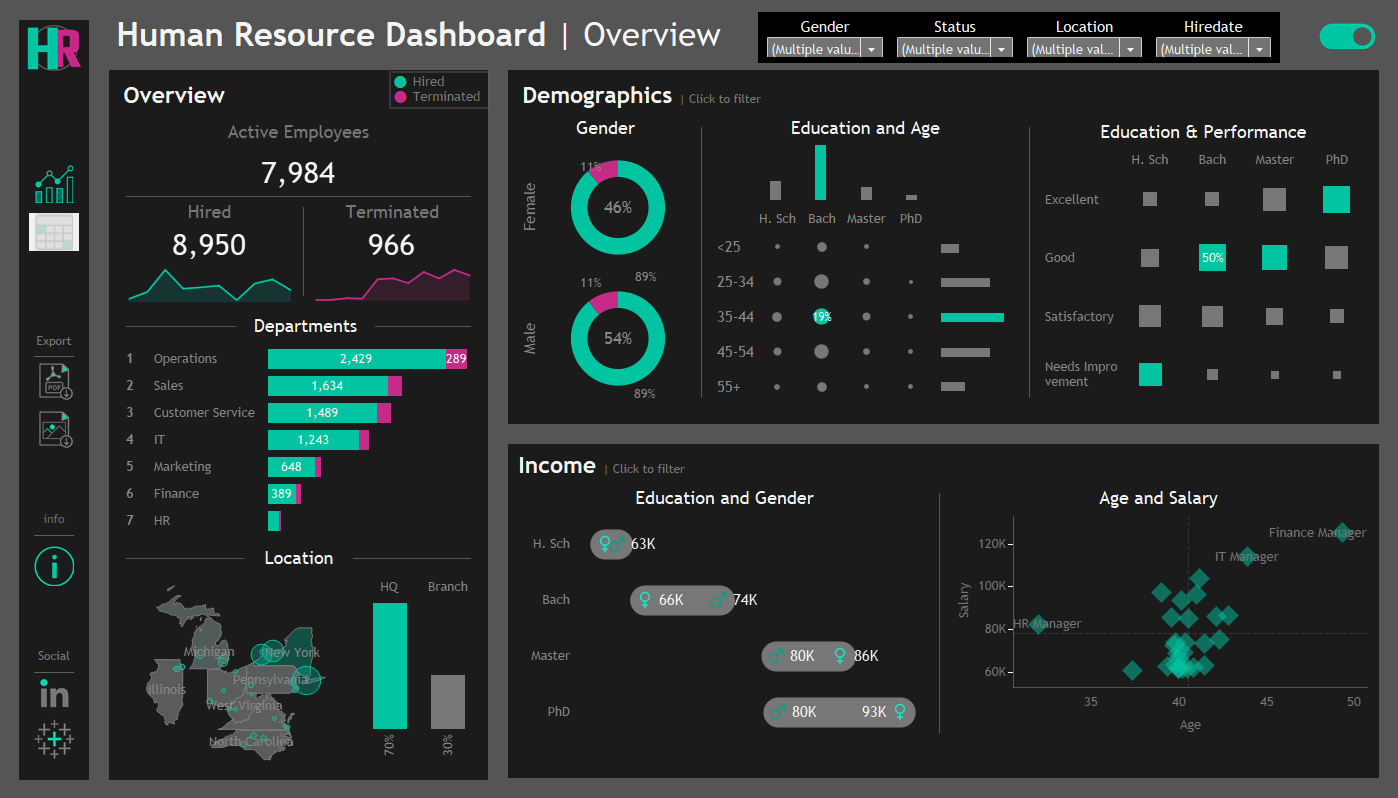

What the dashboard file says about the page in this screenshot:
{"tool":"tableau","page":{"name":"HR|Summary","canvas":[1400,800],"ordinal":0},"visuals":[{"type":"text","box":[110,0,693,70]},{"type":"blank","box":[803,0,577,70]},{"type":"dashboard-object","box":[1320,12,56,50]},{"type":"filter","title":"Gender Vs Education Level","param":"[federated.041khfl1uyaq4g14h28vw0vvkhcx].[none:Gender:nk]","box":[761,14,130,47]},{"type":"filter","title":"Gender Vs Education Level","param":"[federated.041khfl1uyaq4g14h28vw0vvkhcx].[none:Calculation_1573163699767287808:n","box":[891,14,130,47]},{"type":"filter","title":"Gender Vs Education Level","param":"[federated.041khfl1uyaq4g14h28vw0vvkhcx].[none:Calculation_1072419715825946632:n","box":[1021,14,129,47]},{"type":"filter","title":"Gender Vs Education Level","param":"[federated.041khfl1uyaq4g14h28vw0vvkhcx].[yr:Hiredate:ok]","box":[1150,14,129,47]},{"type":"image","param":"Image/Logo.png","box":[20,20,70,55]},{"type":"text","box":[392,73,97,34]},{"type":"blank","box":[20,75,70,80]},{"type":"text","box":[117,77,365,35]},{"type":"text","box":[516,77,857,35]},{"type":"text","box":[117,112,365,37]},{"type":"text","box":[516,117,186,21]},{"type":"blank","box":[702,117,1,291]},{"type":"text","box":[708,117,317,21]},{"type":"blank","box":[1030,117,1,291]},{"type":"text","box":[1036,117,337,29]},{"type":"worksheet","title":"Gender","mark":"Pie","rows":["Gender"],"cols":["Calculation_1072419715833659404","Calculation_1072419715833659404"],"box":[516,138,186,270]},{"type":"worksheet","title":"Education Levels","mark":"Bar","rows":["Calculation_1072419715788165123"],"cols":["Education Level"],"box":[708,138,317,67]},{"type":"worksheet","title":"Education Vs Performance","mark":"Square","rows":["Performance Rating"],"cols":["Education Level"],"box":[1036,146,337,262]},{"type":"worksheet","title":"BAN Active","mark":"Text","box":[117,149,365,47]},{"type":"dashboard-object","box":[30,165,50,38]},{"type":"blank","box":[117,196,365,1]},{"type":"text","box":[117,197,187,29]},{"type":"blank","box":[304,197,1,109]},{"type":"text","box":[305,197,176.9,29]},{"type":"blank","box":[30,203,50,10]},{"type":"worksheet","title":"Age vs Education","mark":"Circle","rows":["Calculation_1072419715836768270"],"cols":["Education Level"],"box":[708,205,230,203]},{"type":"worksheet","title":"Age Groups","mark":"Bar","rows":["Calculation_1072419715836768270"],"cols":["Calculation_1072419715788165123"],"box":[938,205,74,203]},{"type":"dashboard-object","box":[30,213,50,38]},{"type":"worksheet","title":"BAN Hired","mark":"Text","box":[117,226,187,37]},{"type":"worksheet","title":"BAN Terminated","mark":"Text","box":[305,226,176.9,37]},{"type":"blank","box":[30,251,50,80]},{"type":"worksheet","title":"Hired By Year","mark":"Line","rows":["Calculation_1072419715788165123","Calculation_1072419715788165123"],"cols":["Hiredate"],"box":[117,263,187,43]},{"type":"worksheet","title":"Terminated By Year","mark":"Line","rows":["Calculation_1072419715789025284","Calculation_1072419715789025284"],"cols":["Termdate"],"box":[305,263,176.9,43]},{"type":"blank","box":[127,311,110,30]},{"type":"text","box":[237,311,139,30]},{"type":"blank","box":[376,311,96,30]},{"type":"text","box":[30,331,50,20]},{"type":"worksheet","title":"Departments","mark":"Bar","rows":["Calculation_1072419715824144391","Department"],"cols":["Calculation_1072419715788165123"],"box":[117,341,365,197]},{"type":"blank","box":[30,351,50,11]},{"type":"dashboard-object","box":[30,362,50,38]},{"type":"blank","box":[30,400,50,10]},{"type":"dashboard-object","box":[30,410,50,38]},{"type":"blank","box":[30,448,50,60]},{"type":"text","box":[516,451,857,27]},{"type":"text","box":[516,483,419,29]},{"type":"blank","box":[940,483,1,261]},{"type":"text","box":[946,483,427,29]},{"type":"text","box":[30,508,50,22]},{"type":"worksheet","title":"Gender Vs Education Level","mark":"Square","rows":["Education Level"],"cols":["Salary","Salary"],"box":[516,512,419,232]},{"type":"worksheet","title":"Age Vs Salary","mark":"Shape","rows":["Salary"],"cols":["Calculation_1072419715835944973"],"box":[946,512,427,232]},{"type":"blank","box":[30,530,50,11]},{"type":"blank","box":[30,541,50,104]},{"type":"blank","box":[127,543,117.7,30]},{"type":"text","box":[244.7,543,109.7,30]},{"type":"blank","box":[354.3,543,117.7,30]},{"type":"dashboard-object","box":[35,546,40,40]},{"type":"worksheet","title":"Map States","mark":"Multipolygon","box":[117,573,240,200]},{"type":"worksheet","title":"Location","mark":"Bar","rows":["Calculation_1072419715788165123"],"cols":["Calculation_1072419715825946632","Calculation1"],"box":[357,573,125,200]},{"type":"text","box":[30,645,50,22]},{"type":"blank","box":[30,667,50,11]},{"type":"image","param":"Image/contact-linkedin.png","box":[30,678,50,30]},{"type":"blank","box":[30,708,50,11]},{"type":"image","param":"Image/contact-public.png","box":[30,719,50,40]}]}

Visuals, with their boxes in screenshot pixels (x1, y1, x2, y2), scaled from the page's 1400x800 canvas onto the 1398x798 screenshot:
text: x1=110 y1=0 x2=802 y2=70
blank: x1=802 y1=0 x2=1378 y2=70
dashboard-object: x1=1318 y1=12 x2=1374 y2=62
"Gender Vs Education Level" filter: x1=760 y1=14 x2=890 y2=61
"Gender Vs Education Level" filter: x1=890 y1=14 x2=1020 y2=61
"Gender Vs Education Level" filter: x1=1020 y1=14 x2=1148 y2=61
"Gender Vs Education Level" filter: x1=1148 y1=14 x2=1277 y2=61
image: x1=20 y1=20 x2=90 y2=75
text: x1=391 y1=73 x2=488 y2=107
blank: x1=20 y1=75 x2=90 y2=155
text: x1=117 y1=77 x2=481 y2=112
text: x1=515 y1=77 x2=1371 y2=112
text: x1=117 y1=112 x2=481 y2=149
text: x1=515 y1=117 x2=701 y2=138
blank: x1=701 y1=117 x2=702 y2=407
text: x1=707 y1=117 x2=1024 y2=138
blank: x1=1029 y1=117 x2=1030 y2=407
text: x1=1035 y1=117 x2=1371 y2=146
"Gender" worksheet (Pie marks): x1=515 y1=138 x2=701 y2=407
"Education Levels" worksheet (Bar marks): x1=707 y1=138 x2=1024 y2=204
"Education Vs Performance" worksheet (Square marks): x1=1035 y1=146 x2=1371 y2=407
"BAN Active" worksheet (Text marks): x1=117 y1=149 x2=481 y2=196
dashboard-object: x1=30 y1=165 x2=80 y2=202
blank: x1=117 y1=196 x2=481 y2=197
text: x1=117 y1=197 x2=304 y2=225
blank: x1=304 y1=197 x2=305 y2=305
text: x1=305 y1=197 x2=481 y2=225
blank: x1=30 y1=202 x2=80 y2=212
"Age vs Education" worksheet (Circle marks): x1=707 y1=204 x2=937 y2=407
"Age Groups" worksheet (Bar marks): x1=937 y1=204 x2=1011 y2=407
dashboard-object: x1=30 y1=212 x2=80 y2=250
"BAN Hired" worksheet (Text marks): x1=117 y1=225 x2=304 y2=262
"BAN Terminated" worksheet (Text marks): x1=305 y1=225 x2=481 y2=262
blank: x1=30 y1=250 x2=80 y2=330
"Hired By Year" worksheet (Line marks): x1=117 y1=262 x2=304 y2=305
"Terminated By Year" worksheet (Line marks): x1=305 y1=262 x2=481 y2=305
blank: x1=127 y1=310 x2=237 y2=340
text: x1=237 y1=310 x2=375 y2=340
blank: x1=375 y1=310 x2=471 y2=340
text: x1=30 y1=330 x2=80 y2=350
"Departments" worksheet (Bar marks): x1=117 y1=340 x2=481 y2=537
blank: x1=30 y1=350 x2=80 y2=361
dashboard-object: x1=30 y1=361 x2=80 y2=399
blank: x1=30 y1=399 x2=80 y2=409
dashboard-object: x1=30 y1=409 x2=80 y2=447
blank: x1=30 y1=447 x2=80 y2=507
text: x1=515 y1=450 x2=1371 y2=477
text: x1=515 y1=482 x2=934 y2=511
blank: x1=939 y1=482 x2=940 y2=742
text: x1=945 y1=482 x2=1371 y2=511
text: x1=30 y1=507 x2=80 y2=529
"Gender Vs Education Level" worksheet (Square marks): x1=515 y1=511 x2=934 y2=742
"Age Vs Salary" worksheet (Shape marks): x1=945 y1=511 x2=1371 y2=742
blank: x1=30 y1=529 x2=80 y2=540
blank: x1=30 y1=540 x2=80 y2=643
blank: x1=127 y1=542 x2=244 y2=572
text: x1=244 y1=542 x2=354 y2=572
blank: x1=354 y1=542 x2=471 y2=572
dashboard-object: x1=35 y1=545 x2=75 y2=585
"Map States" worksheet (Multipolygon marks): x1=117 y1=572 x2=356 y2=771
"Location" worksheet (Bar marks): x1=356 y1=572 x2=481 y2=771
text: x1=30 y1=643 x2=80 y2=665
blank: x1=30 y1=665 x2=80 y2=676
image: x1=30 y1=676 x2=80 y2=706
blank: x1=30 y1=706 x2=80 y2=717
image: x1=30 y1=717 x2=80 y2=757
